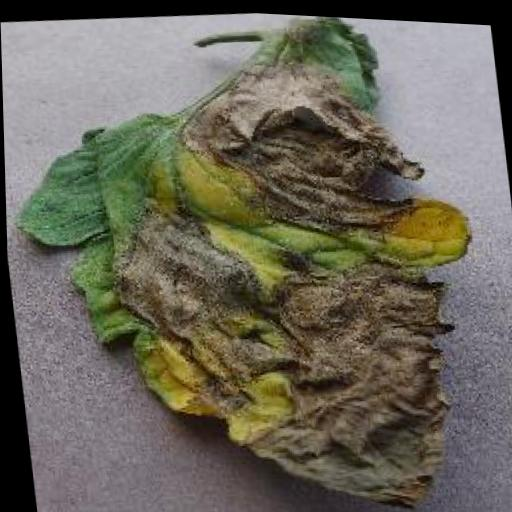Late Blight: (0, 0, 502, 512)
